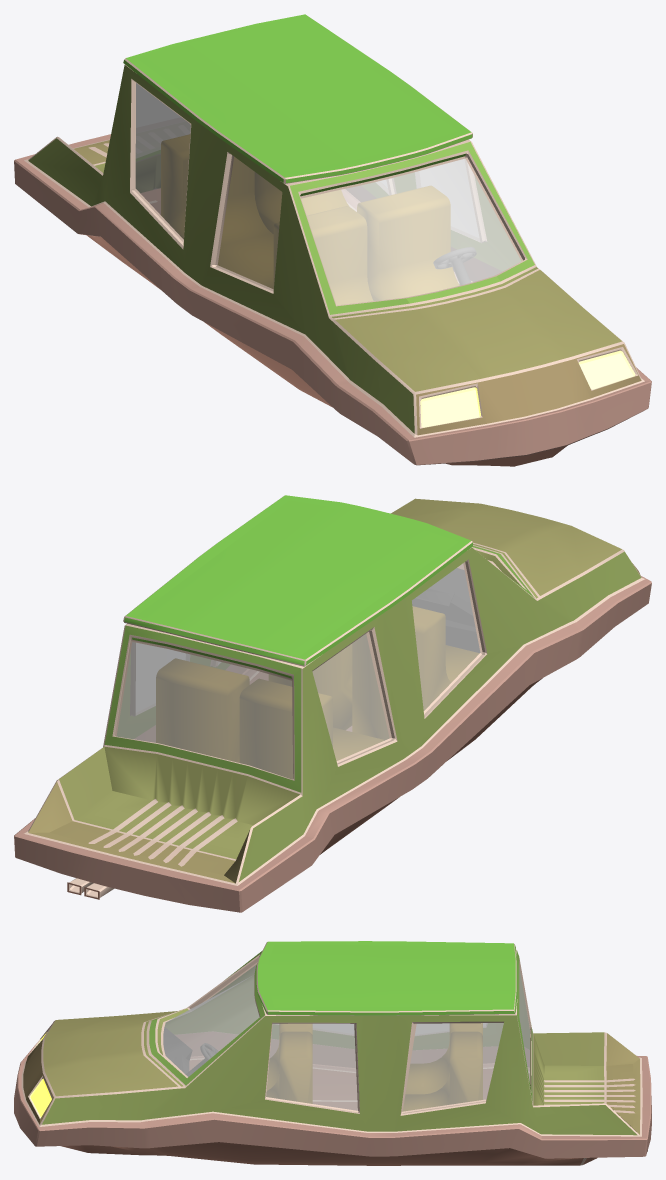
The model's file is lowpolycar-jeep1-downsized.glb.
3 renders of one model, top to bottom at view 1: azimuth 30°, elevation 25°; view 2: azimuth 150°, elevation 25°; view 3: azimuth 270°, elevation 25°, orthographic. The views are drawn at different scales.
Visible parts, largest first — view 1: Jeep; view 2: Jeep; view 3: Jeep.
Boxes of the visible parts, x1,y1,x2,y2 form: Jeep: (14,14,651,466); Jeep: (14,495,651,912); Jeep: (14,941,651,1165).
Size of the model in its own units: 1.23 by 1 by 3.66.
4 materials, 2 textured.
